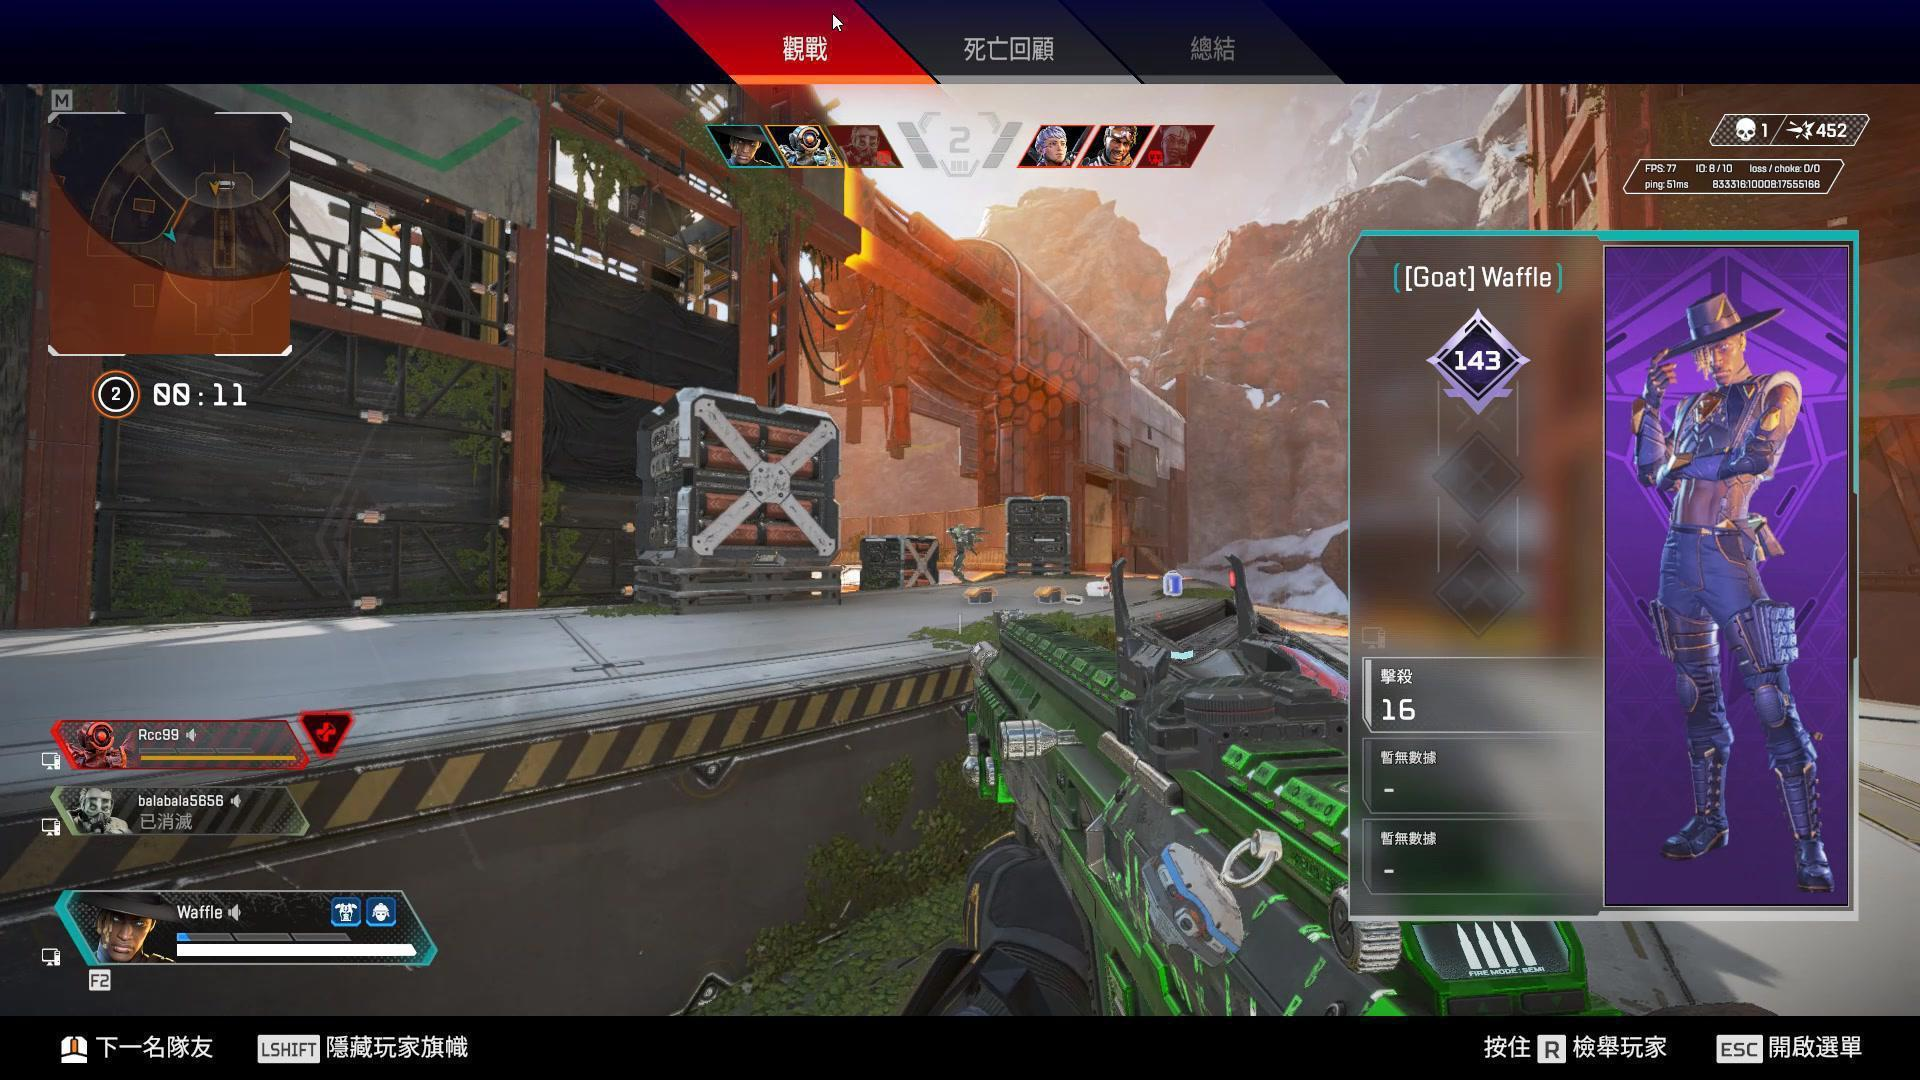avatar: (946, 525, 977, 583)
